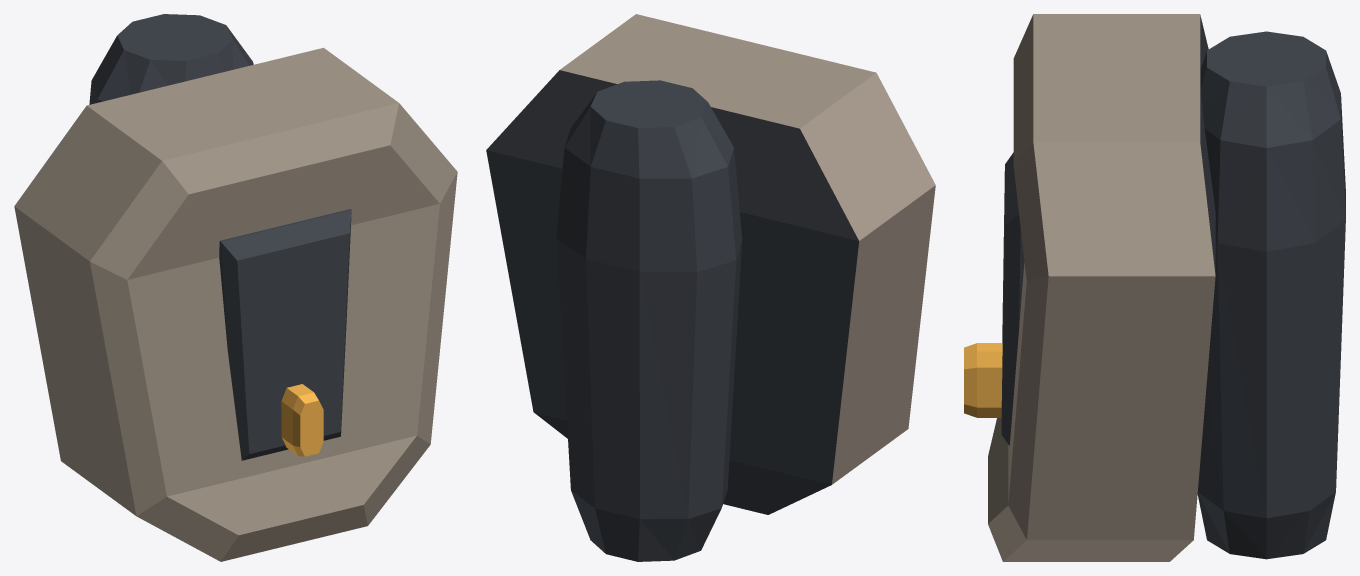
The model's file is forearm_heavy.glb.
3 views of the same model, side by side, from view 1: azimuth 30°, elevation 25°; view 2: azimuth 150°, elevation 25°; view 3: azimuth 270°, elevation 25° (orthographic). The views are drawn at different scales.
Visible parts, largest first — view 1: forearm_heavy; view 2: forearm_heavy; view 3: forearm_heavy.
Boxes of the visible parts, x1,y1,x2,y2 form: forearm_heavy: [14, 14, 457, 561]; forearm_heavy: [486, 14, 935, 561]; forearm_heavy: [964, 14, 1345, 561].
Size of the model in its own units: 0.9 by 1 by 0.7322.
